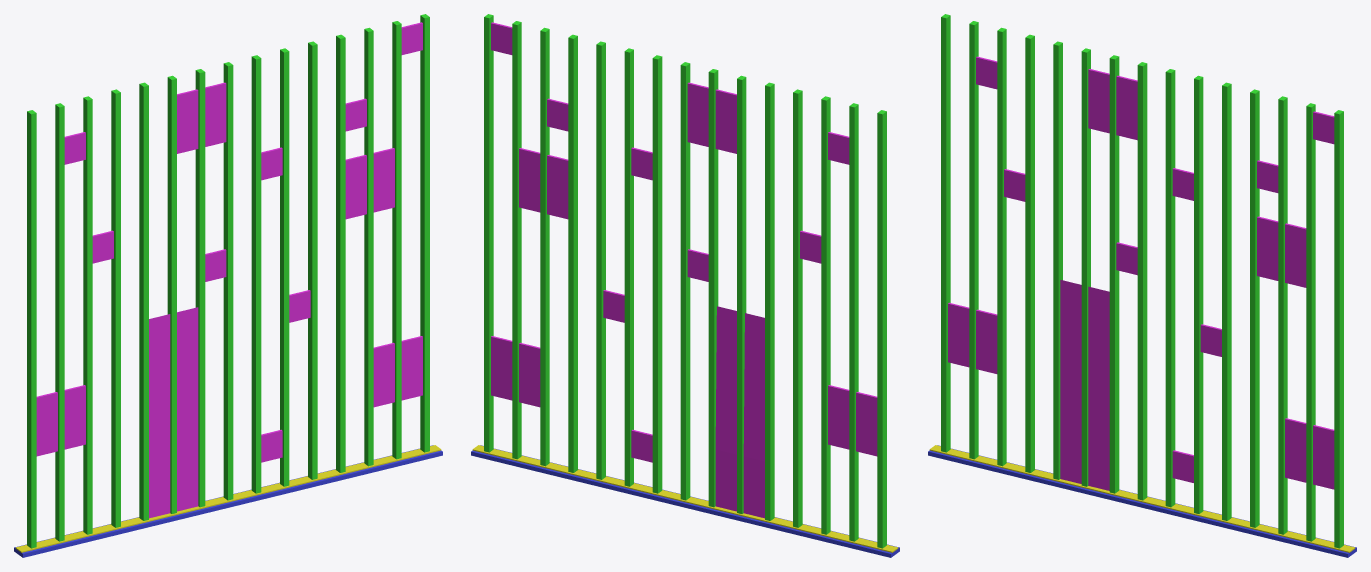
File: Partition_Wall_04_A.fbx
The picture shows the model from 3 angles, left to right: view 1: azimuth 30°, elevation 25°; view 2: azimuth 150°, elevation 25°; view 3: azimuth 330°, elevation 25°; orthographic projection.
Parts seen in each view (by area): view 1: Partition_Wall_04_A_01, Partition_Wall_04_A_02, Partition_Wall_04_A_Base; view 2: Partition_Wall_04_A_01, Partition_Wall_04_A_02, Partition_Wall_04_A_Base; view 3: Partition_Wall_04_A_01, Partition_Wall_04_A_02, Partition_Wall_04_A_Base.
Boxes of the visible parts, x1,y1,x2,y2 form: Partition_Wall_04_A_01: (27, 62, 233, 548); Partition_Wall_04_A_02: (251, 14, 429, 493); Partition_Wall_04_A_Base: (14, 445, 442, 557); Partition_Wall_04_A_01: (680, 62, 886, 548); Partition_Wall_04_A_02: (484, 14, 662, 493); Partition_Wall_04_A_Base: (471, 445, 899, 557); Partition_Wall_04_A_01: (941, 14, 1147, 500); Partition_Wall_04_A_02: (1165, 69, 1343, 548); Partition_Wall_04_A_Base: (928, 445, 1356, 557).
Size of the model in its own units: 457 by 457 by 16.77.
